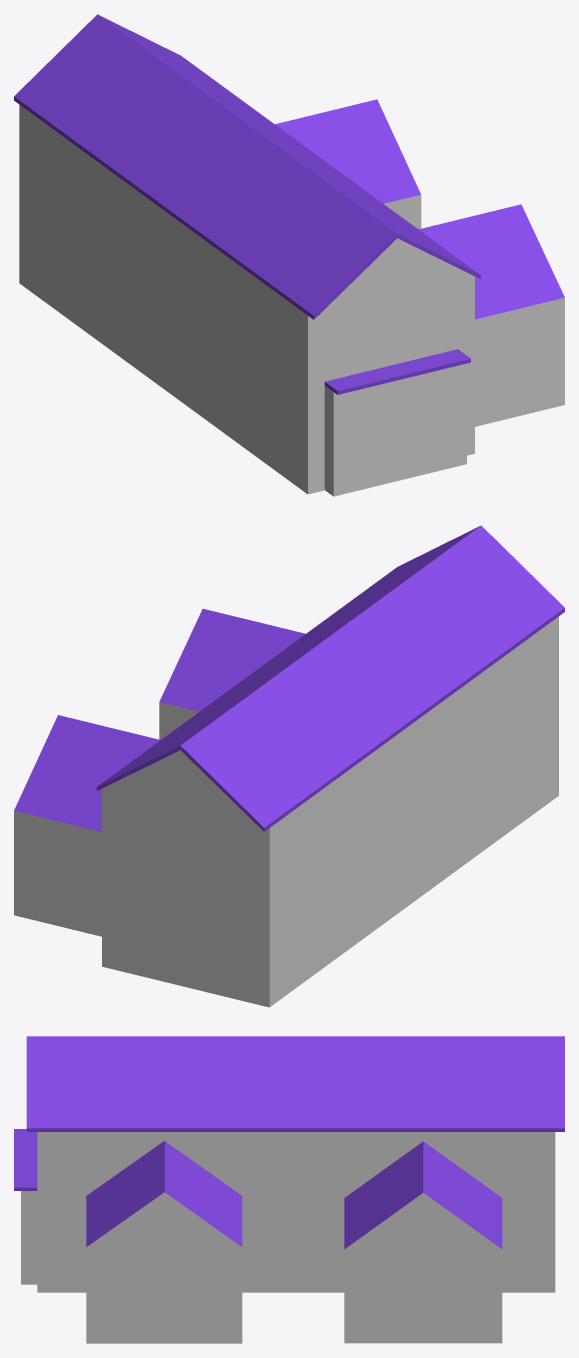
Rendered from house3.fbx.
The picture shows the model from 3 angles, top to bottom: view 1: azimuth 30°, elevation 25°; view 2: azimuth 150°, elevation 25°; view 3: azimuth 270°, elevation 25°; orthographic projection. The views are drawn at different scales.
Visible parts, largest first — view 1: Cube; view 2: Cube; view 3: Cube.
Part boxes in pixels (x1,y1,x2,y2): Cube: (14, 14, 564, 496); Cube: (14, 525, 564, 1007); Cube: (14, 1036, 564, 1343).
Bounding box in the file's own units: 341 × 280 × 637.
